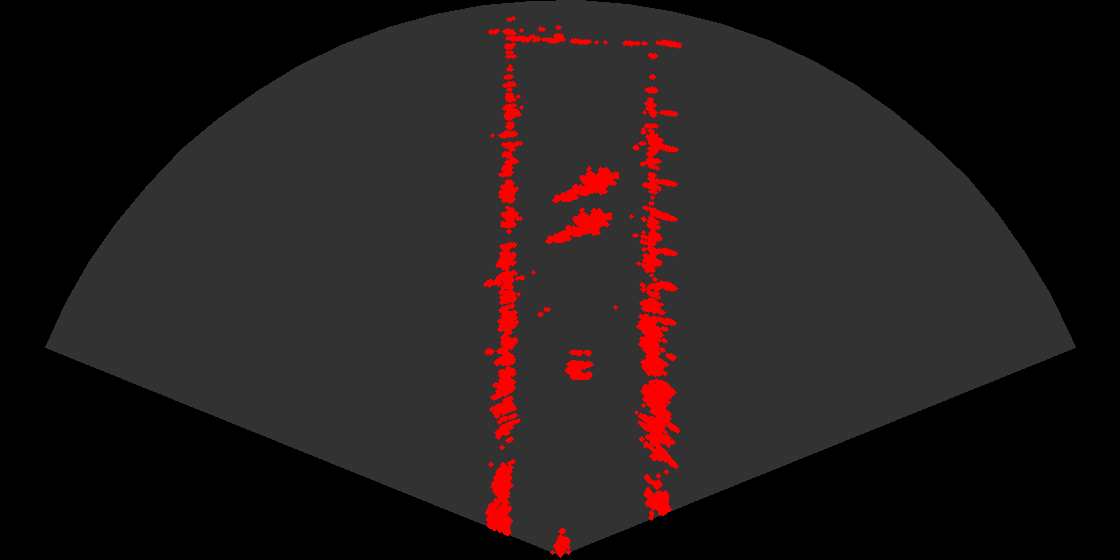ball: (545, 342, 605, 383)
frogman: (544, 201, 612, 248), (551, 160, 619, 207)
